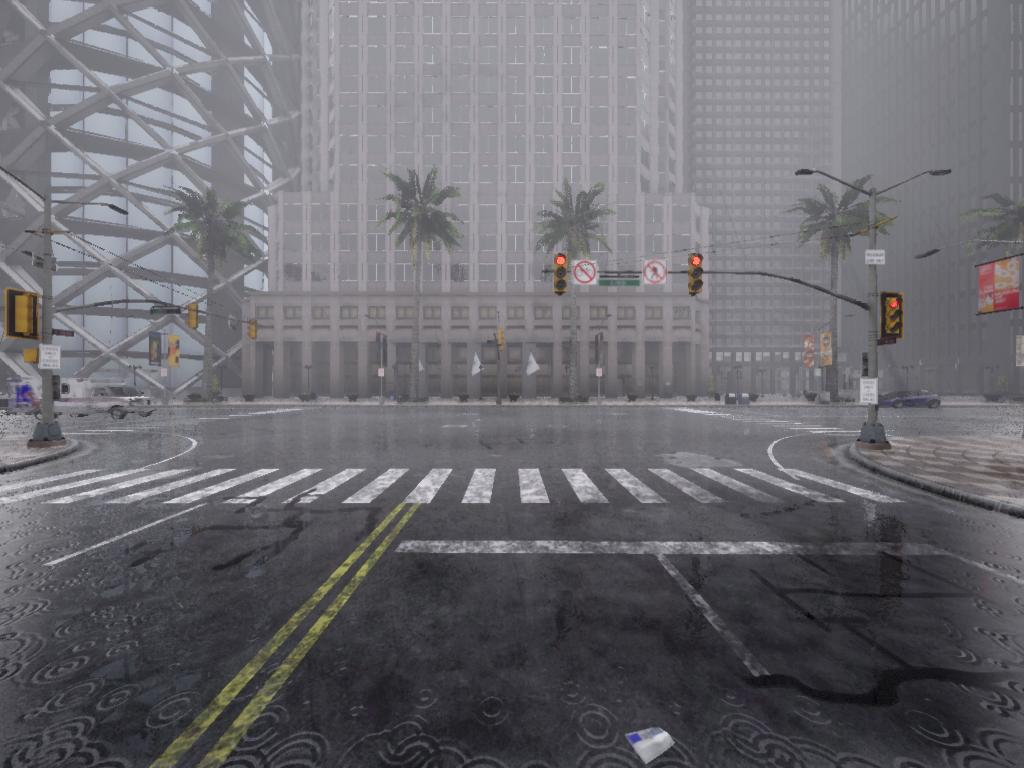traffic_light: (11, 295, 42, 339), (882, 295, 906, 344), (688, 254, 706, 297), (553, 254, 571, 294), (161, 334, 181, 367), (149, 338, 170, 369), (187, 305, 203, 332), (822, 335, 835, 368), (170, 339, 183, 367), (167, 339, 179, 369), (248, 319, 262, 340), (499, 327, 504, 348)
